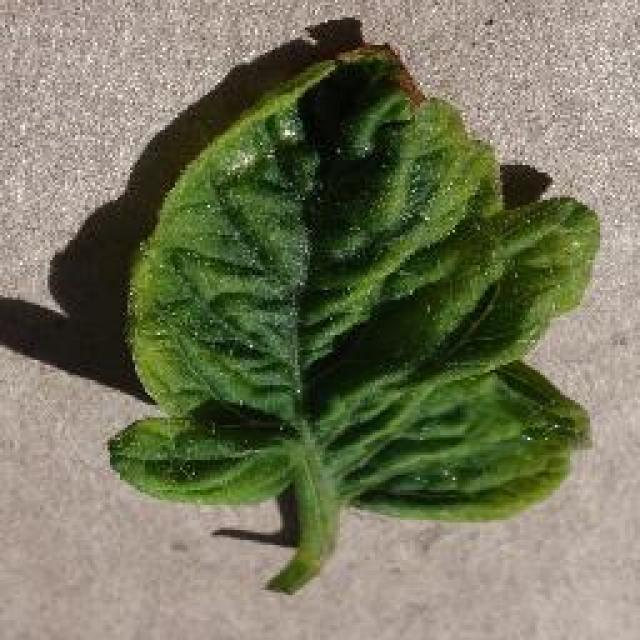Tomato yellow virus leaf: (100, 40, 602, 520)
